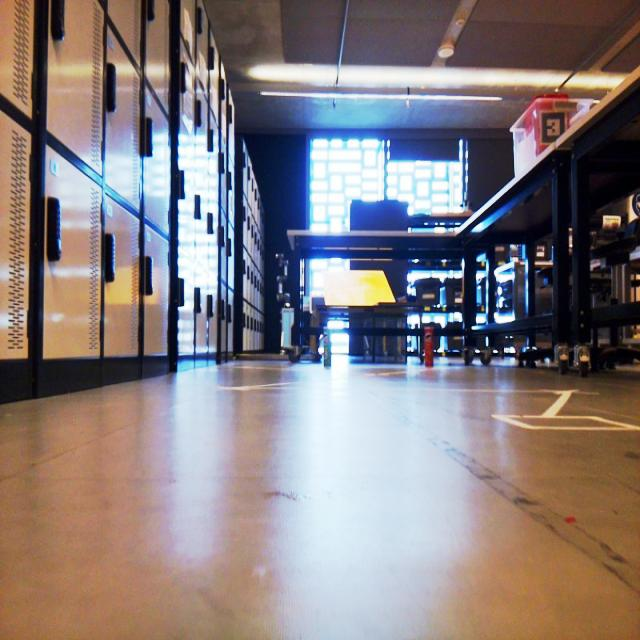greenpringles: (316, 327, 338, 373)
redpringles: (412, 322, 440, 377)
